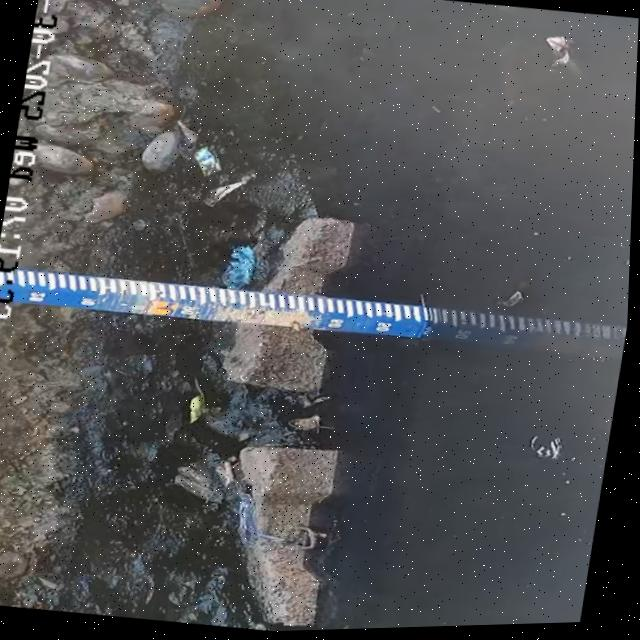water-meter: (0, 247, 439, 360)
